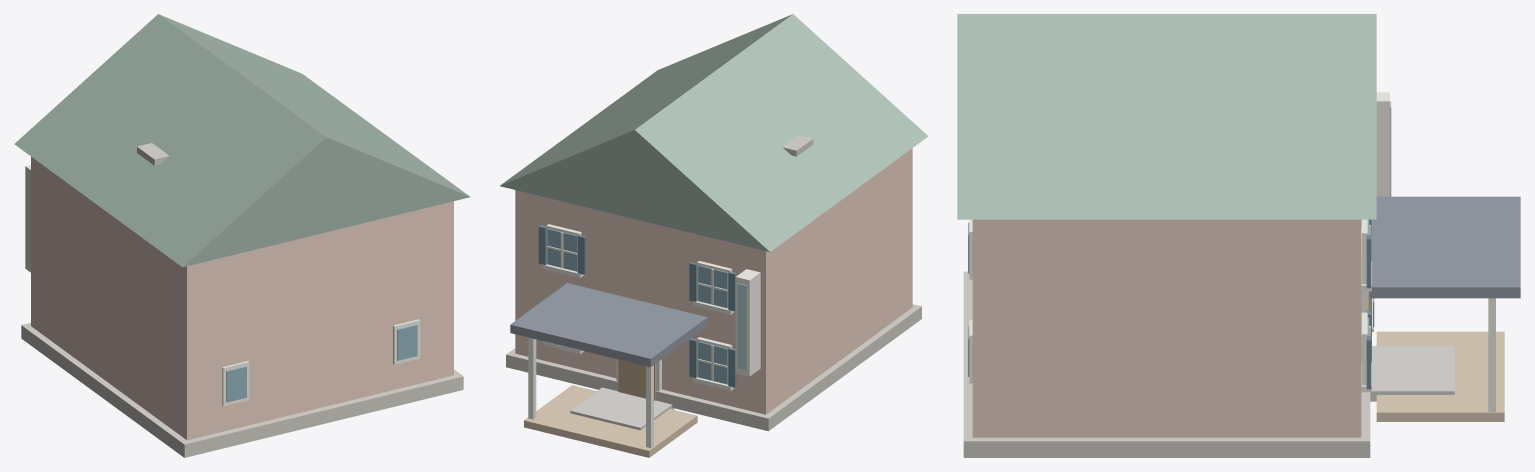
Rendered from House_Victorian.glb.
The picture shows the model from 3 angles, left to right: view 1: azimuth 30°, elevation 25°; view 2: azimuth 150°, elevation 25°; view 3: azimuth 270°, elevation 25°; orthographic projection. The views are drawn at different scales.
Visible parts, largest first — view 1: 001_exterior_001, 002_gable_roof_002, 000_foundation_000, 041_rear_glass_041, 043_rear_glass_043, 046_bay_window_trim_046, 042_rear_window_042, 040_rear_window_040, 045_chimney_cap_045; view 2: 002_gable_roof_002, 001_exterior_001, 039_porch_roof_039, 000_foundation_000, 036_porch_deck_036, 035_stoop_035, 046_bay_window_trim_046, 032_door_032, 018_window_glass_018, 025_window_glass_025, 004_window_glass_004, 047_bay_glass_047 (+2 smaller); view 3: 002_gable_roof_002, 001_exterior_001, 039_porch_roof_039, 000_foundation_000, 036_porch_deck_036, 035_stoop_035, 046_bay_window_trim_046, 038_porch_post_038.
Boxes of the visible parts, box(x1,y1,x2,y2) form: 001_exterior_001: box(31, 156, 453, 440); 002_gable_roof_002: box(14, 14, 470, 267); 000_foundation_000: box(21, 322, 463, 457); 041_rear_glass_041: box(226, 366, 246, 402); 043_rear_glass_043: box(397, 325, 417, 360); 046_bay_window_trim_046: box(25, 165, 30, 272); 042_rear_window_042: box(393, 319, 420, 364); 040_rear_window_040: box(222, 361, 249, 406); 045_chimney_cap_045: box(137, 143, 169, 165); 002_gable_roof_002: box(500, 14, 928, 251); 001_exterior_001: box(515, 148, 912, 414); 039_porch_roof_039: box(510, 283, 707, 367); 000_foundation_000: box(506, 304, 921, 431); 036_porch_deck_036: box(524, 385, 697, 457); 035_stoop_035: box(570, 387, 674, 430); 046_bay_window_trim_046: box(735, 269, 760, 376); 032_door_032: box(618, 359, 656, 400); 018_window_glass_018: box(698, 265, 727, 307); 025_window_glass_025: box(547, 229, 577, 271); 004_window_glass_004: box(698, 341, 727, 383); 047_bay_glass_047: box(737, 283, 747, 370); 002_gable_roof_002: box(957, 14, 1376, 219); 001_exterior_001: box(972, 219, 1361, 437); 039_porch_roof_039: box(1369, 196, 1520, 298); 000_foundation_000: box(963, 271, 1370, 457); 036_porch_deck_036: box(1376, 331, 1504, 421); 035_stoop_035: box(1370, 346, 1454, 401); 046_bay_window_trim_046: box(1361, 92, 1389, 228); 038_porch_post_038: box(1488, 298, 1495, 411).
Size of the model in its own units: 8.1 by 7.93 by 11.01.
